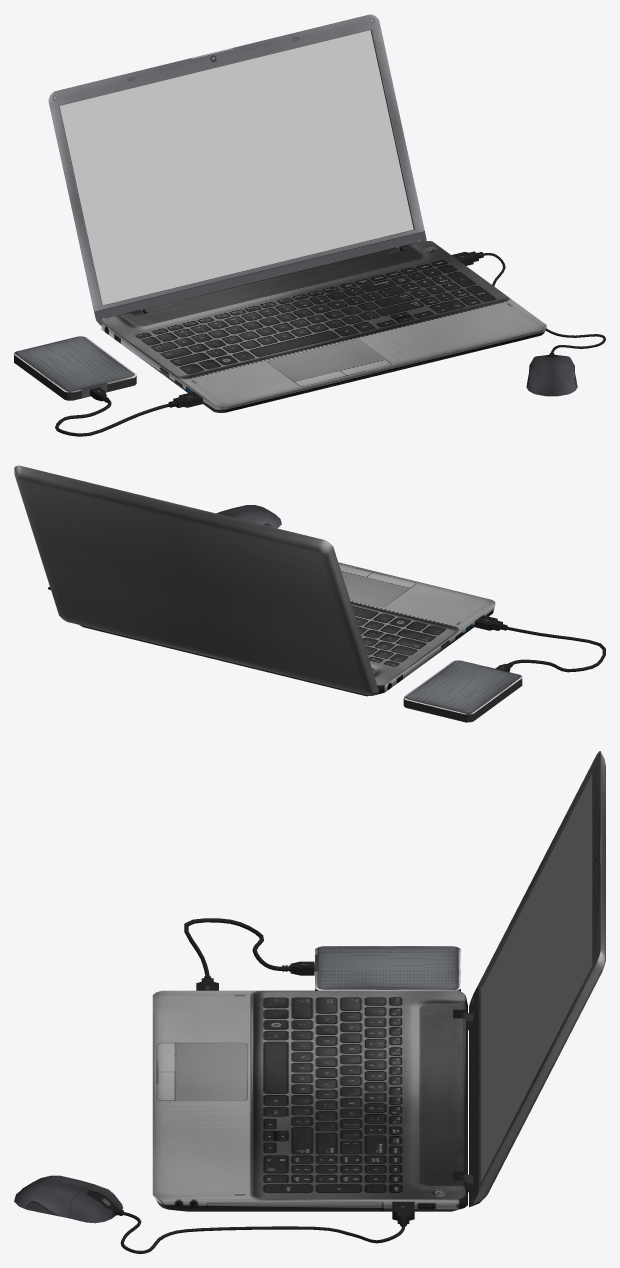
File: Laptop_fbx.FBX
3 views of the same model, one above another, from view 1: azimuth 30°, elevation 25°; view 2: azimuth 150°, elevation 25°; view 3: azimuth 270°, elevation 25° (orthographic). The views are drawn at different scales.
Visible parts, largest first — view 1: Laptop_(Display_cover), Laptop_(Main_Part), Hard_Drive, Computer Mouse, Cable; view 2: Laptop_(Display_cover), Laptop_(Main_Part), Hard_Drive, Cable, Computer Mouse; view 3: Laptop_(Main_Part), Laptop_(Display_cover), Hard_Drive, Computer Mouse, Cable.
Part boxes in pixels (x1,y1,x2,y2): Laptop_(Display_cover): (48, 14, 426, 325); Laptop_(Main_Part): (101, 241, 546, 412); Hard_Drive: (14, 336, 136, 400); Computer Mouse: (451, 251, 605, 396); Cable: (55, 387, 202, 436); Laptop_(Display_cover): (14, 465, 379, 695); Laptop_(Main_Part): (80, 562, 495, 696); Hard_Drive: (403, 660, 522, 722); Cable: (474, 615, 605, 672); Computer Mouse: (48, 505, 281, 589); Laptop_(Main_Part): (152, 990, 467, 1211); Laptop_(Display_cover): (457, 751, 605, 1207); Hard_Drive: (315, 946, 460, 991); Computer Mouse: (14, 1175, 414, 1253); Cable: (184, 918, 314, 990).
Size of the model in its own units: 1.01 by 0.3921 by 0.7837.
